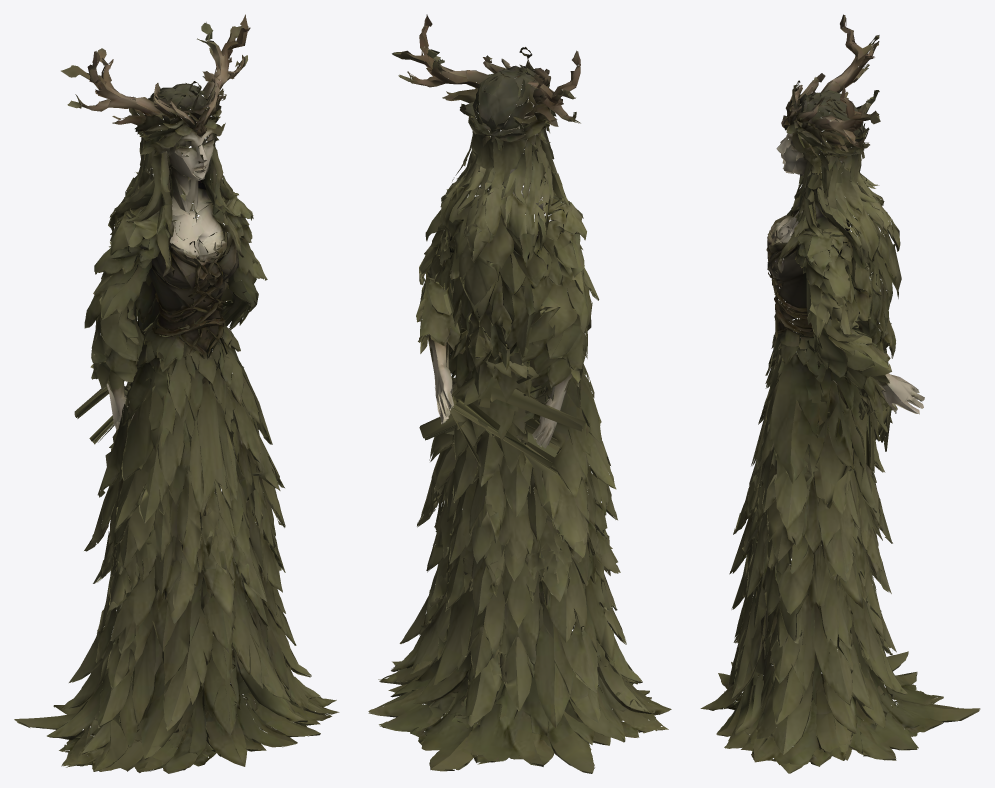
Rendered from madremonte_p0.glb.
The picture shows the model from 3 angles, left to right: view 1: azimuth 30°, elevation 25°; view 2: azimuth 150°, elevation 25°; view 3: azimuth 270°, elevation 25°; orthographic projection. The views are drawn at different scales.
Parts seen in each view (by area): view 1: madremonte; view 2: madremonte; view 3: madremonte.
Part boxes in pixels (x1,y1,x2,y2): madremonte: [14, 14, 339, 773]; madremonte: [368, 14, 671, 773]; madremonte: [700, 14, 980, 773].
Size of the model in its own units: 0.6916 by 1.65 by 0.6284.
1 material, 1 textured.
